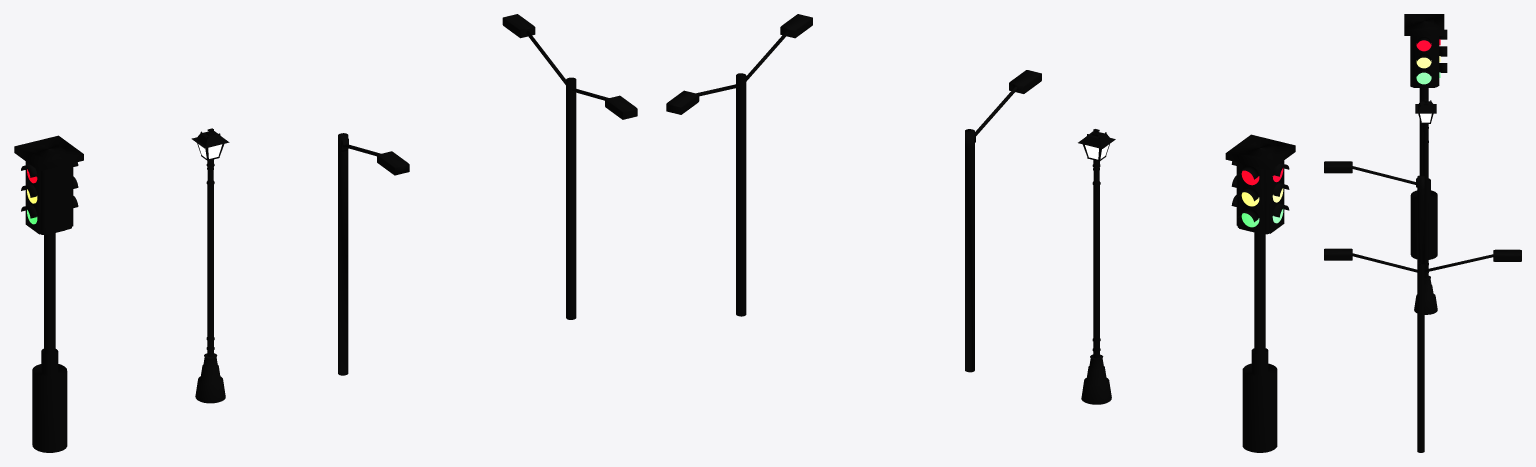
Rendered from uploads_files_6085125_streetlights.glb.
3 renders of one model, left to right at view 1: azimuth 30°, elevation 25°; view 2: azimuth 150°, elevation 25°; view 3: azimuth 270°, elevation 25°, orthographic. The views are drawn at different scales.
Parts seen in each view (by area): view 1: signal, two_side_light, single_side, LAMP; view 2: signal, two_side_light, single_side, LAMP; view 3: signal, two_side_light, LAMP, single_side.
Part boxes in pixels (<box>): signal: <box>14,135,83,452</box>; two_side_light: <box>502,14,637,319</box>; single_side: <box>338,133,409,375</box>; LAMP: <box>191,128,229,403</box>; signal: <box>1225,134,1295,452</box>; two_side_light: <box>666,14,812,316</box>; single_side: <box>965,70,1041,372</box>; LAMP: <box>1078,129,1115,404</box>; signal: <box>1404,14,1447,259</box>; two_side_light: <box>1324,248,1521,452</box>; LAMP: <box>1414,99,1437,314</box>; single_side: <box>1324,161,1424,263</box>.
Size of the model in its own units: 23.14 by 11.84 by 9.12.
